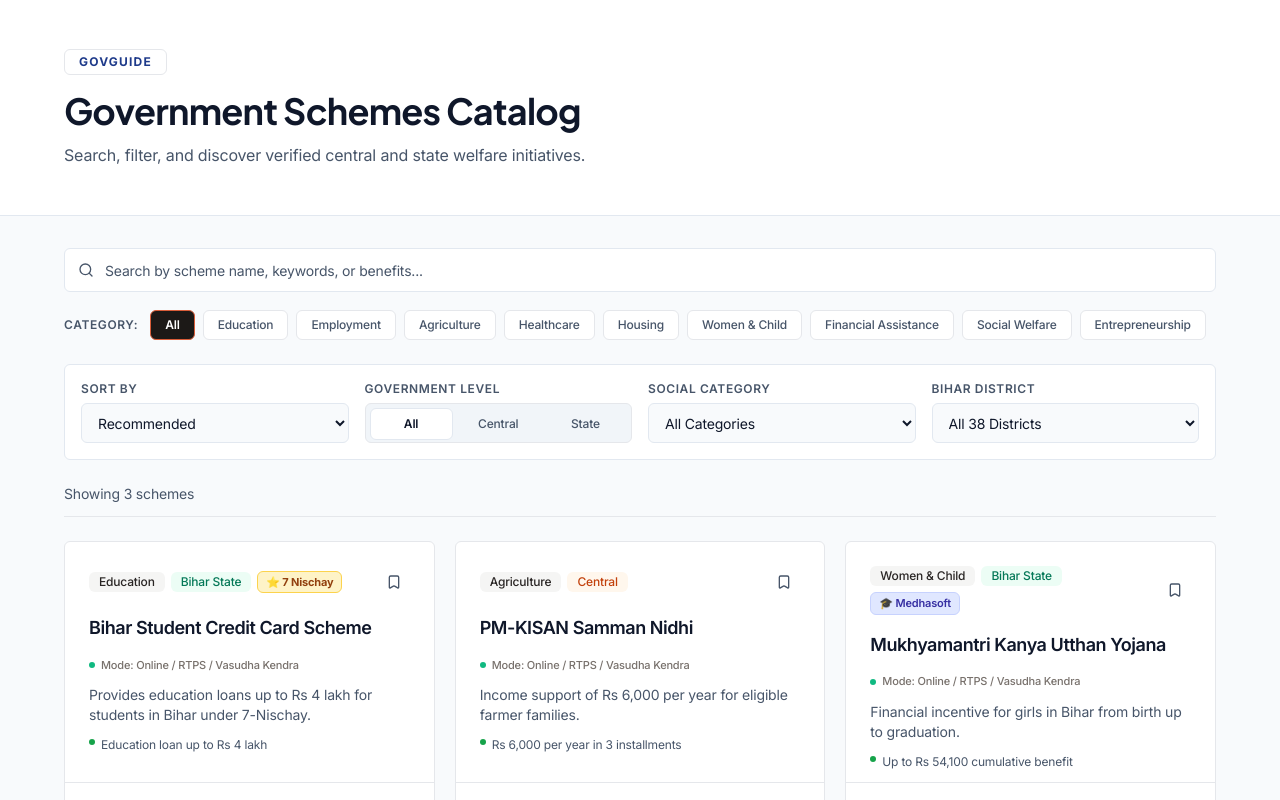
Key Application Pages › SchemesPage loads schemes and filters results by search query
The image size is (1280, 800).
Expected: the text "Bihar Student Credit Card Scheme" is shown, [89,616,410,641]
Expected: the text "PM-KISAN Samman Nidhi" is shown, [480,617,693,638]
Type "Kanya" into the field with placeholder "Search by scheme name, keywords, or benefits..." at (640,270), box [64,248,1216,292]
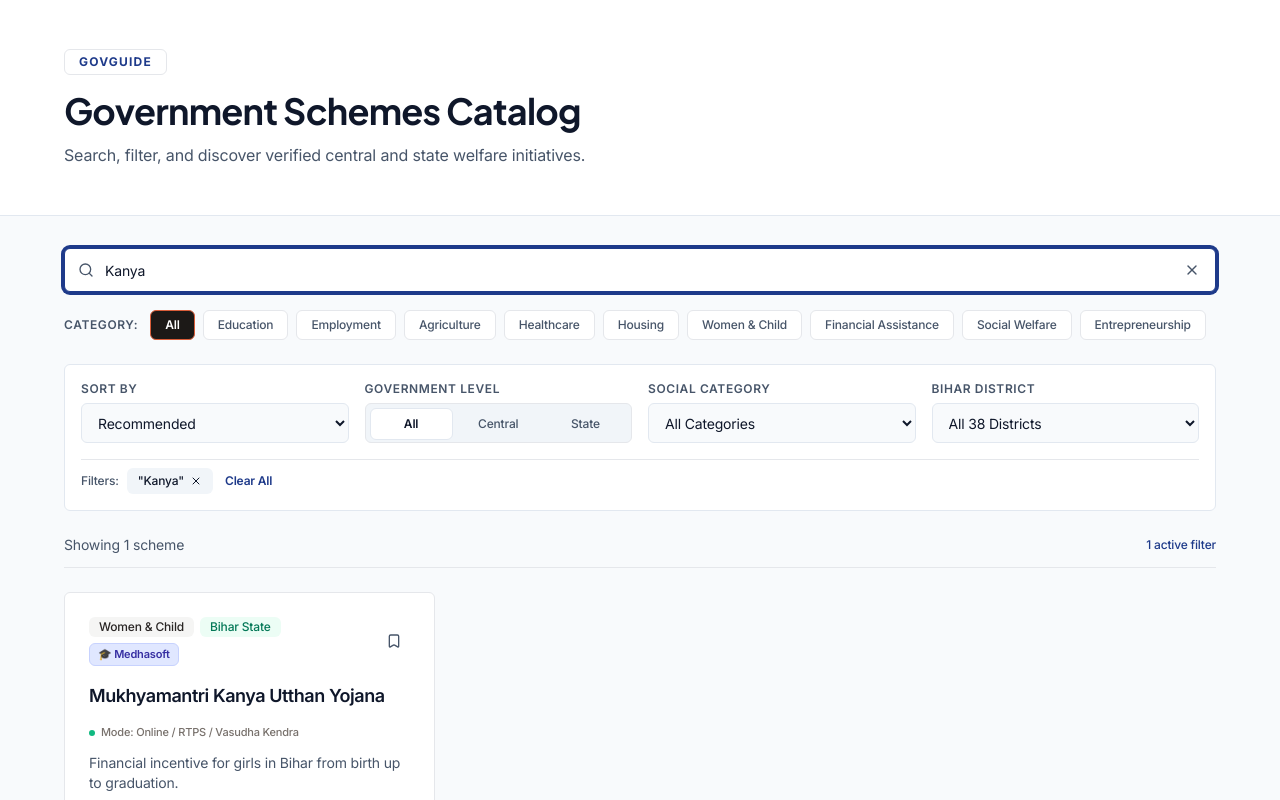
Expected: the text "Mukhyamantri Kanya Utthan Yojana" is shown, [89,684,410,708]
Now the text "PM-KISAN Samman Nidhi" is gone
